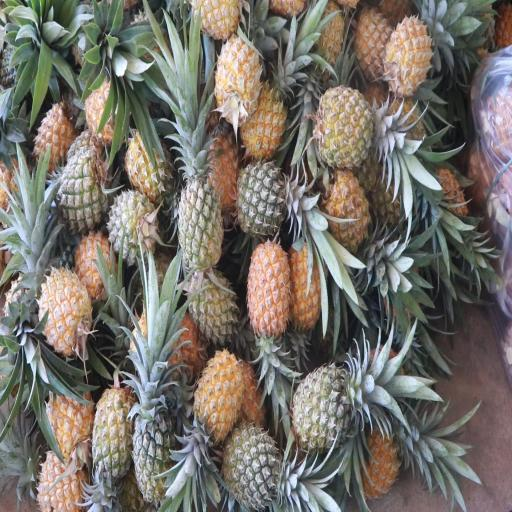------------------------------: (174, 152, 222, 274), (313, 88, 384, 168), (220, 422, 287, 506), (131, 402, 176, 503), (121, 130, 176, 205), (182, 273, 232, 354), (349, 4, 395, 84), (74, 235, 120, 308), (30, 107, 74, 173)
Pineapple - v8 v1: (38, 270, 93, 357), (193, 350, 242, 444), (318, 170, 372, 254), (247, 244, 291, 345), (91, 382, 136, 480), (216, 29, 263, 121), (383, 9, 431, 96), (236, 79, 284, 164), (48, 378, 96, 462), (289, 238, 328, 339), (354, 421, 401, 493)
